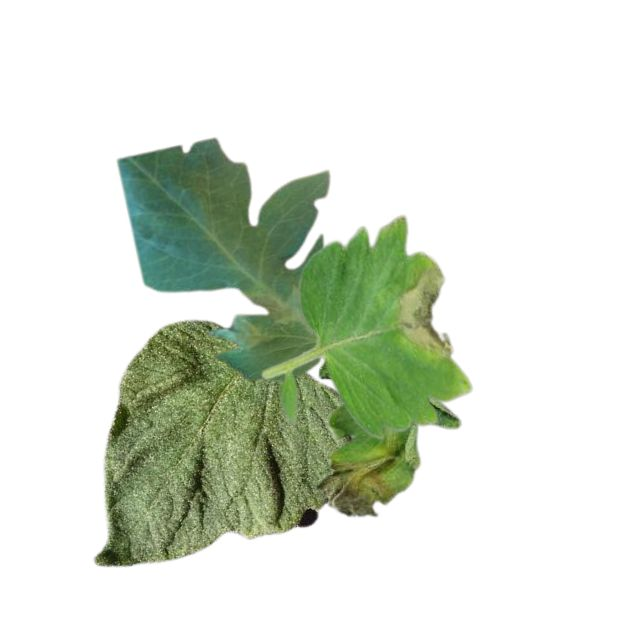Late_blight: (395, 266, 457, 356), (325, 452, 400, 518), (246, 287, 304, 328)
